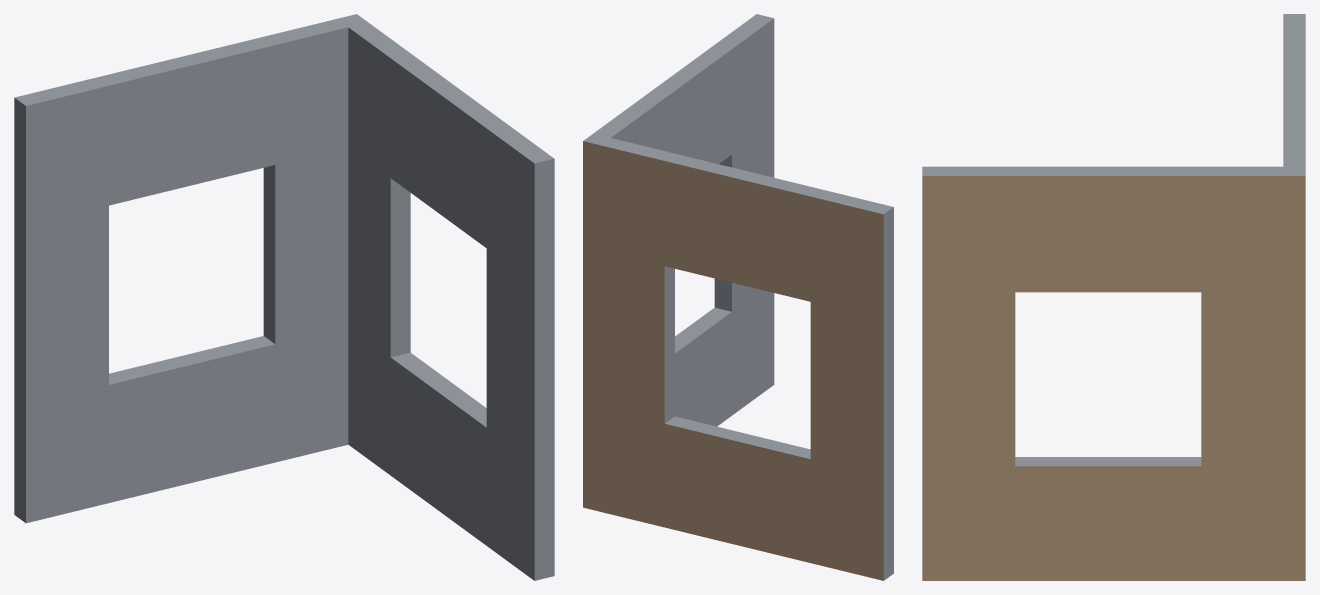
The model's file is Wall2_C6_12.fbx.
3 views of the same model, side by side, from view 1: azimuth 30°, elevation 25°; view 2: azimuth 150°, elevation 25°; view 3: azimuth 270°, elevation 25° (orthographic). The views are drawn at different scales.
Visible parts, largest first — view 1: Wall2_C6_12; view 2: Wall2_C6_12; view 3: Wall2_C6_12.
Boxes of the visible parts, <box> form: Wall2_C6_12: <box>14,14,554,580</box>; Wall2_C6_12: <box>583,14,893,580</box>; Wall2_C6_12: <box>922,14,1305,580</box>.
Size of the model in its own units: 258 by 300 by 258.
